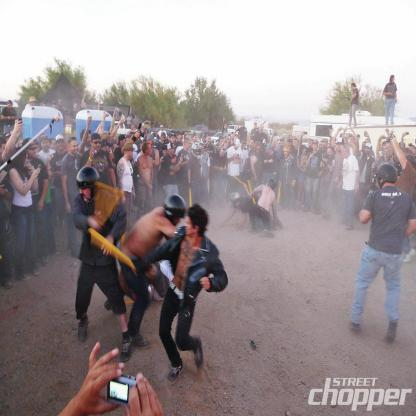face: (186, 217, 194, 236), (81, 186, 91, 201), (173, 215, 181, 227), (30, 145, 36, 158), (73, 142, 79, 155), (86, 133, 92, 146), (94, 140, 101, 151), (23, 155, 28, 168), (105, 144, 111, 154), (51, 140, 57, 150), (146, 145, 152, 155), (378, 176, 382, 190), (44, 141, 50, 150), (59, 141, 64, 151), (388, 145, 393, 155), (150, 139, 155, 148), (328, 150, 333, 159), (187, 142, 192, 151), (130, 149, 134, 160), (20, 141, 25, 149), (7, 138, 12, 146), (342, 149, 347, 157), (171, 146, 176, 154), (122, 139, 127, 146), (3, 145, 6, 156), (195, 149, 199, 157), (180, 134, 184, 142), (235, 204, 239, 210), (313, 144, 317, 150), (289, 140, 293, 146), (260, 127, 264, 133), (172, 136, 175, 144), (236, 145, 239, 152), (243, 141, 246, 148), (32, 101, 35, 108), (295, 141, 298, 148), (251, 141, 254, 148), (201, 147, 204, 154), (268, 149, 272, 154), (160, 127, 164, 132), (161, 134, 164, 140), (60, 101, 63, 107), (9, 103, 12, 109), (393, 77, 396, 83), (367, 148, 370, 154), (385, 151, 388, 157), (339, 144, 342, 150), (324, 142, 327, 148), (321, 144, 324, 150), (285, 152, 288, 158), (281, 142, 284, 148), (274, 141, 277, 147), (413, 147, 416, 153), (222, 152, 225, 158), (195, 136, 198, 142), (164, 150, 167, 156), (221, 140, 224, 145), (43, 104, 46, 109), (310, 143, 313, 148), (304, 149, 307, 154), (363, 144, 366, 149), (84, 103, 87, 108), (208, 137, 211, 142), (53, 105, 56, 109), (258, 146, 260, 152), (75, 104, 78, 108), (146, 128, 148, 133), (156, 131, 158, 136), (243, 124, 246, 127), (352, 86, 354, 90), (255, 125, 257, 129), (225, 125, 227, 129), (136, 116, 138, 118), (202, 130, 204, 132), (130, 116, 131, 118), (125, 115, 126, 117)
